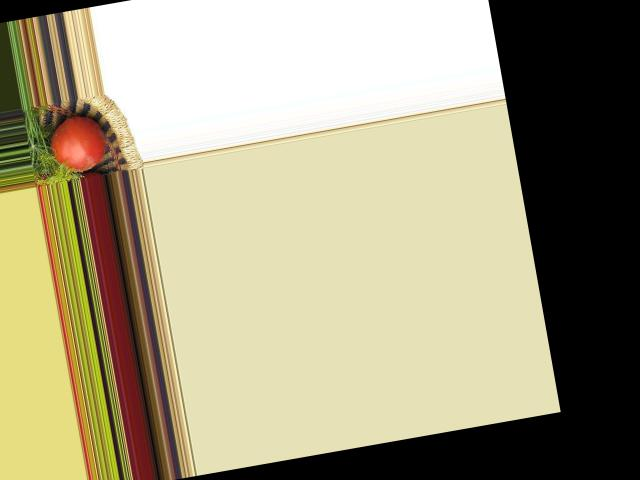tomato: (45, 112, 110, 175)
